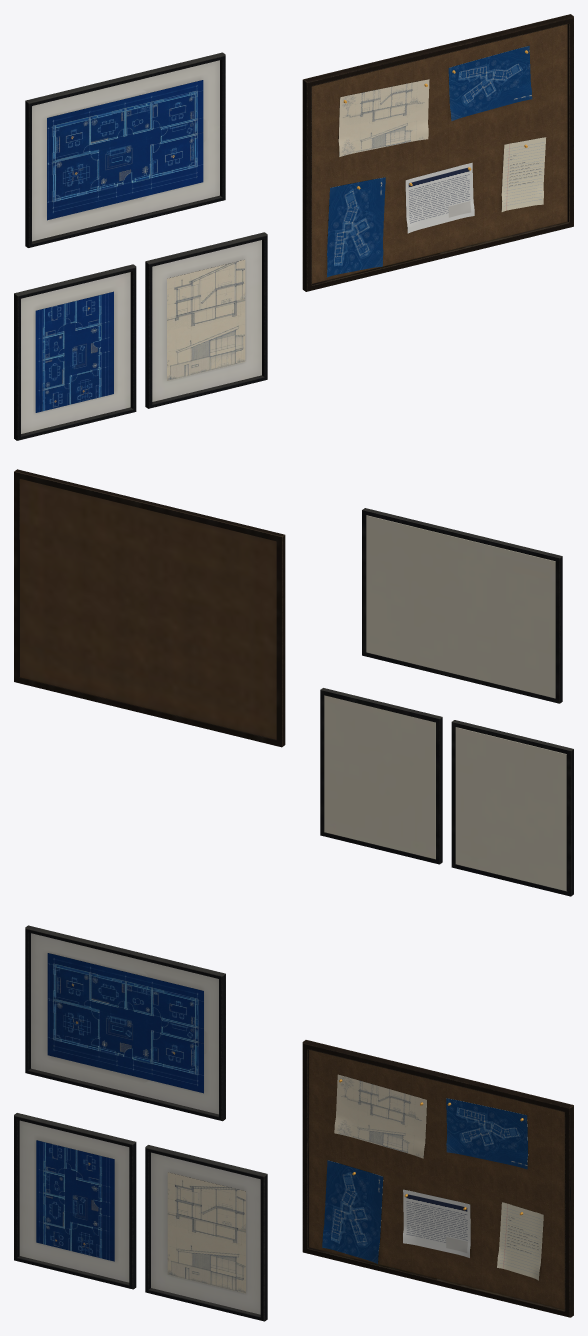
3 views of the same model, one above another, from view 1: azimuth 30°, elevation 25°; view 2: azimuth 150°, elevation 25°; view 3: azimuth 330°, elevation 25° (orthographic).
Parts seen in each view (by area): view 1: studio-wall-kit; view 2: studio-wall-kit; view 3: studio-wall-kit.
Part boxes in pixels (<box>): studio-wall-kit: <box>14,14,573,440</box>; studio-wall-kit: <box>14,469,573,896</box>; studio-wall-kit: <box>14,925,573,1321</box>.
Size of the model in its own units: 1.99 by 1.15 by 0.0292.
2 materials, 2 textured.
